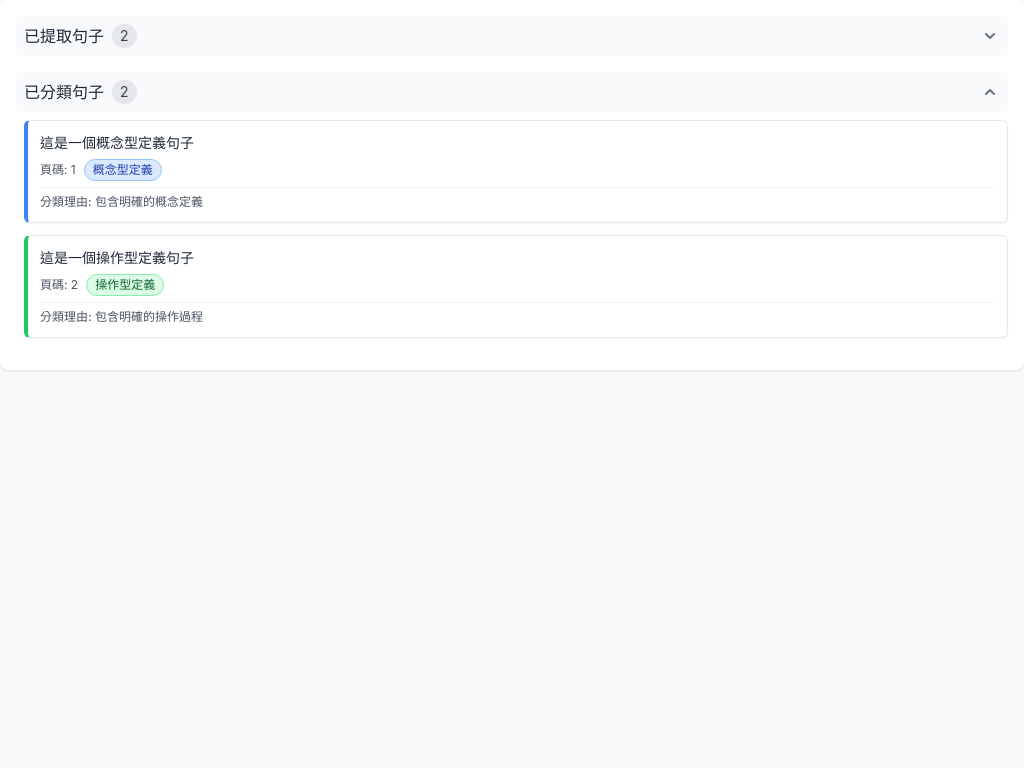
Test: DetailPanel組件 › 應該處理折疊和展開功能
點擊展開已提取句子區塊
What coordinates should you click on to do the following:
click the element with test id "extracted-sentences-header"
I would click on:
 (512, 36)
Its box is [16, 16, 1008, 56].
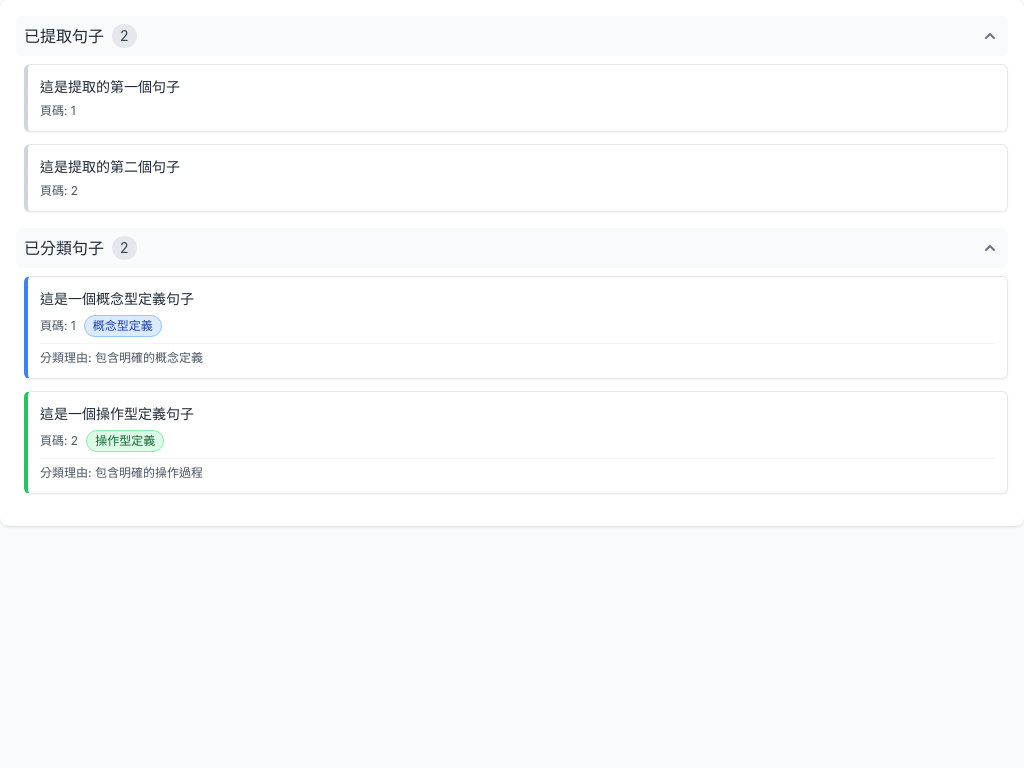
Expected: the element with test id "classified-sentences-content" is shown, [16, 276, 1008, 494]
Now the element with test id "extracted-sentences-content" is shown, box [16, 64, 1008, 212]
Now the element with test id "extracted-sentences-content" shows "這是提取的第一個句子", box [40, 78, 180, 95]
點擊折疊已分類句子區塊
What coordinates should you click on to do the following:
click the element with test id "classified-sentences-header"
I would click on:
 (512, 248)
Its box is [16, 228, 1008, 268].
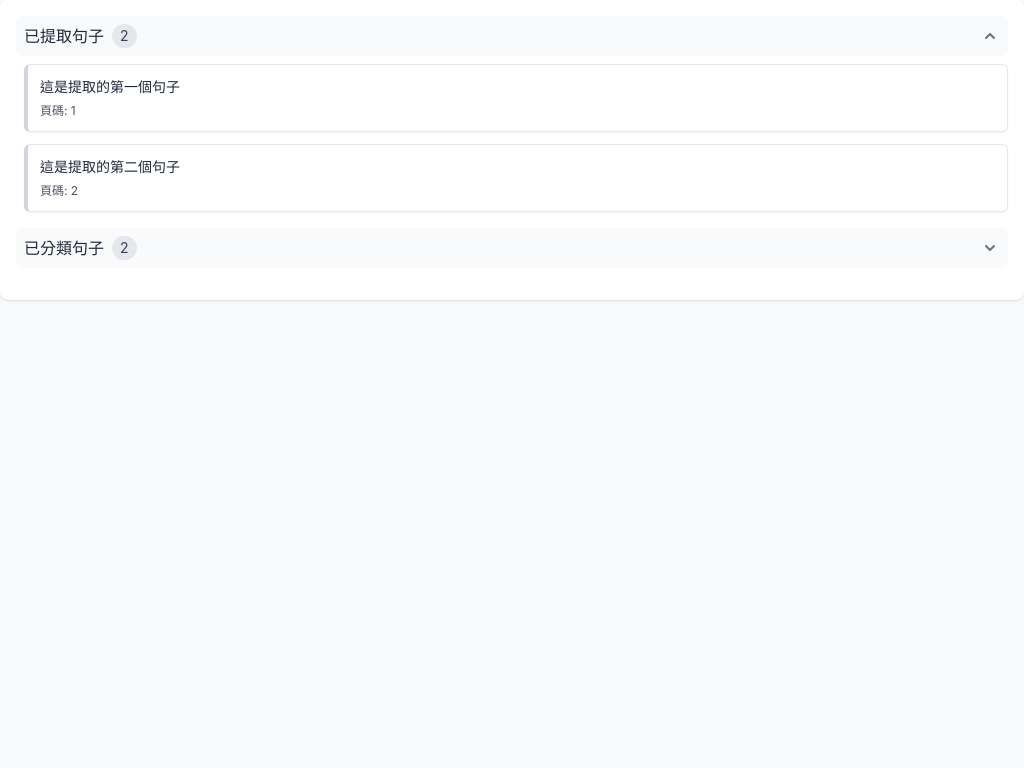
Now the element with test id "classified-sentences-content" is gone
